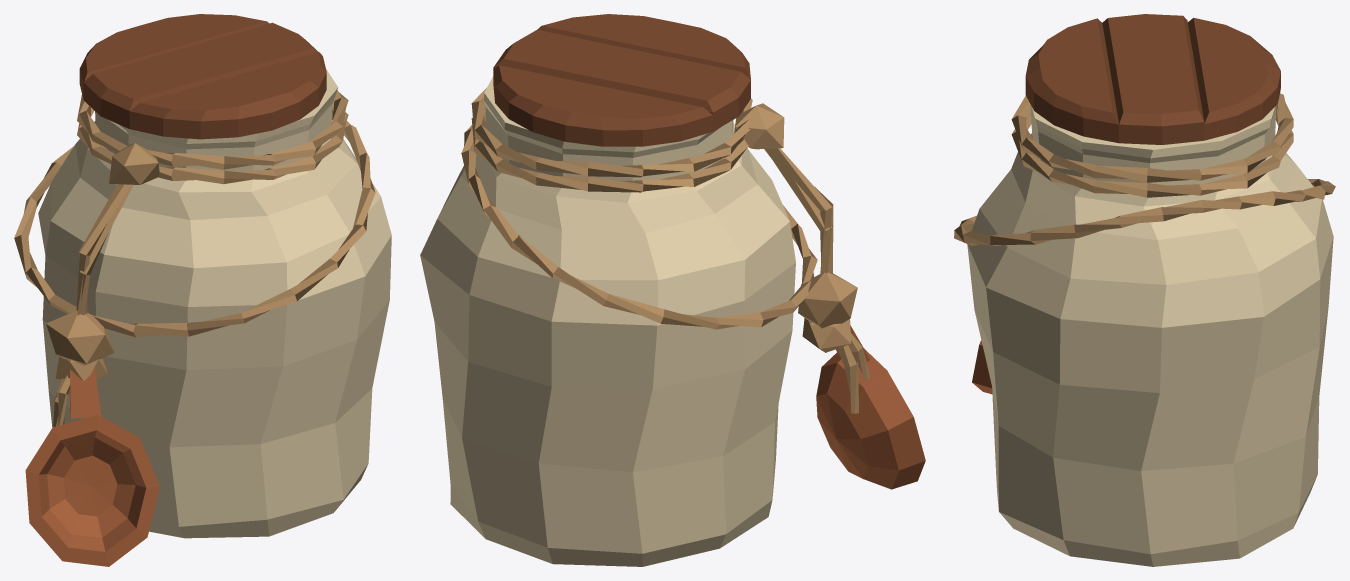
Rendered from ration-carried.glb.
3 views of the same model, side by side, from view 1: azimuth 30°, elevation 25°; view 2: azimuth 150°, elevation 25°; view 3: azimuth 270°, elevation 25° (orthographic). The views are drawn at different scales.
Parts seen in each view (by area): view 1: jar, lid, rope, scoop; view 2: jar, lid, rope, scoop; view 3: jar, lid, rope, scoop.
Part boxes in pixels (x1,y1,x2,y2): jar: (38,69,391,538); lid: (79,14,326,139); rope: (14,90,375,426); scoop: (25,368,159,566); jar: (420,76,795,566); lid: (493,14,750,146); rope: (461,88,870,413); scoop: (816,325,925,489); jar: (967,88,1333,566); lid: (1025,14,1280,144); rope: (954,93,1335,245); scoop: (972,340,992,394).
Size of the model in its own units: 0.5101 by 0.5184 by 0.4145.
